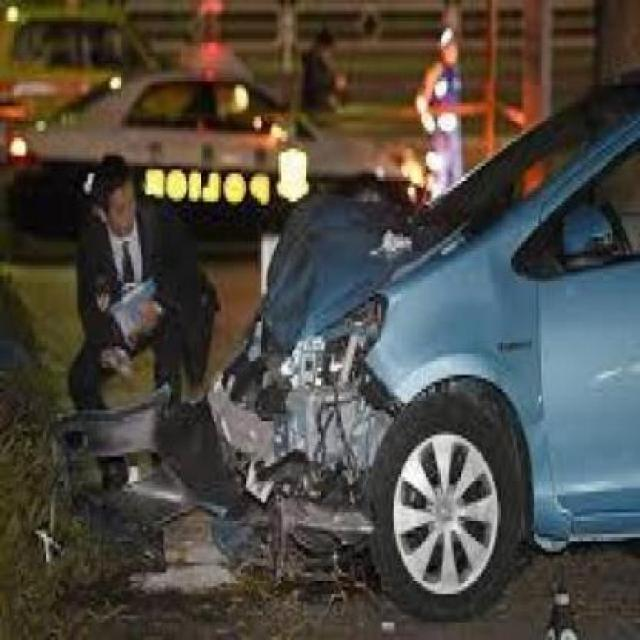damage: (59, 190, 427, 590)
